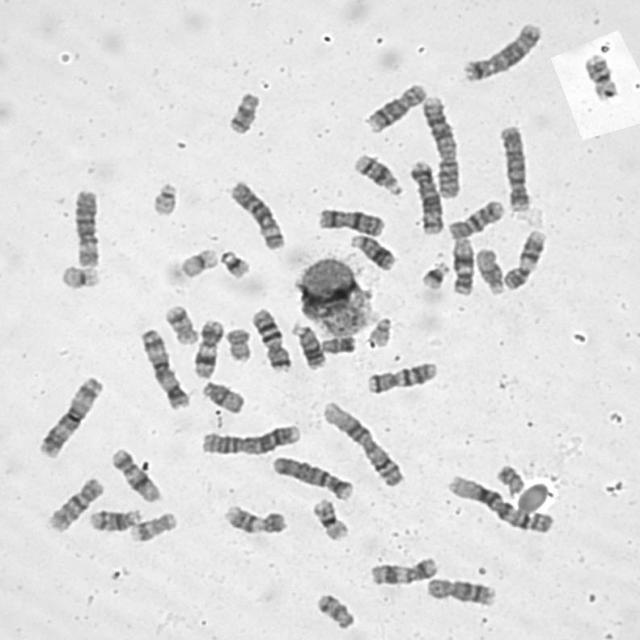A1: (318, 397, 406, 488), (443, 472, 555, 536)
A2: (418, 92, 463, 200), (196, 419, 302, 456)
A3: (34, 371, 104, 459), (136, 325, 191, 411)
B4: (268, 452, 355, 501), (496, 121, 532, 213)
B5: (458, 18, 544, 84), (405, 157, 446, 236)
C10: (43, 473, 106, 533), (444, 196, 506, 240)
C11: (366, 552, 439, 586), (189, 316, 225, 380)
C12: (107, 444, 162, 504), (448, 234, 476, 296)
C6: (226, 177, 286, 252), (69, 184, 102, 269)
C7: (247, 304, 293, 374), (364, 358, 439, 395)
C8: (362, 80, 428, 134), (422, 574, 498, 608)
C9: (499, 226, 549, 291), (220, 500, 288, 536)
D13: (287, 318, 327, 371), (346, 230, 396, 272)
D14: (349, 150, 404, 198), (85, 504, 143, 533)
D15: (197, 377, 246, 415), (472, 244, 506, 296)
E16: (308, 494, 351, 542), (580, 51, 620, 101)
E17: (125, 508, 178, 544), (160, 302, 200, 346)
E18: (312, 589, 356, 631), (224, 88, 262, 136)
F19: (175, 244, 219, 279), (56, 260, 102, 290)
F20: (492, 461, 526, 498), (222, 324, 252, 363)
G21: (216, 246, 252, 280), (418, 258, 452, 291)
G22: (147, 177, 179, 217), (364, 313, 393, 349)
X: (313, 204, 387, 238)
Y: (316, 333, 357, 355)
